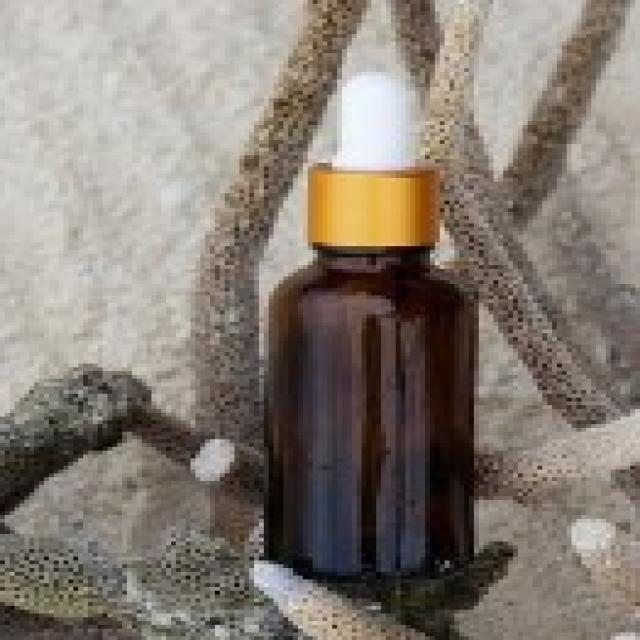electronic: (267, 73, 483, 582)
